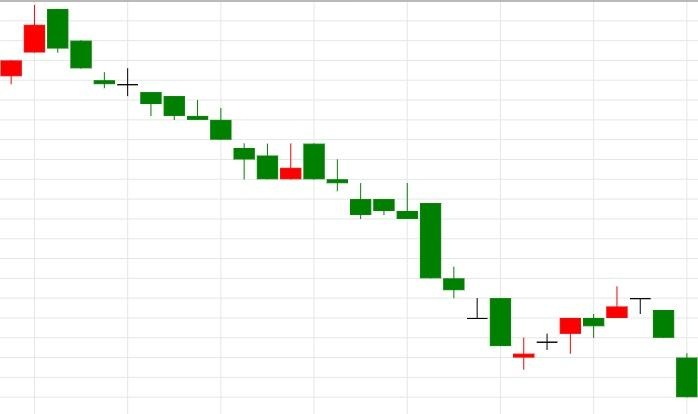evening_star_fall: (513, 286, 675, 370)
